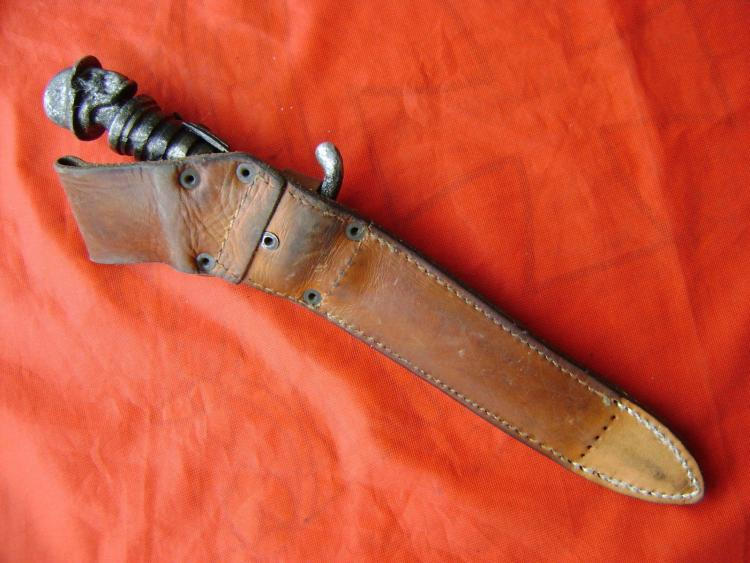knief: (52, 59, 710, 503)
